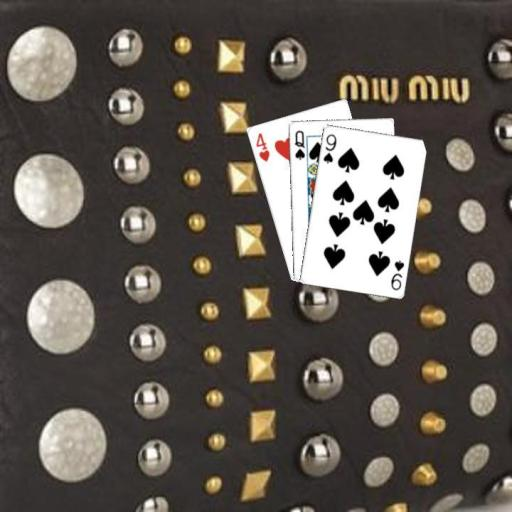4H: (252, 129, 271, 163)
9S: (320, 130, 338, 165), (388, 257, 406, 292)
QS: (291, 127, 306, 161)
